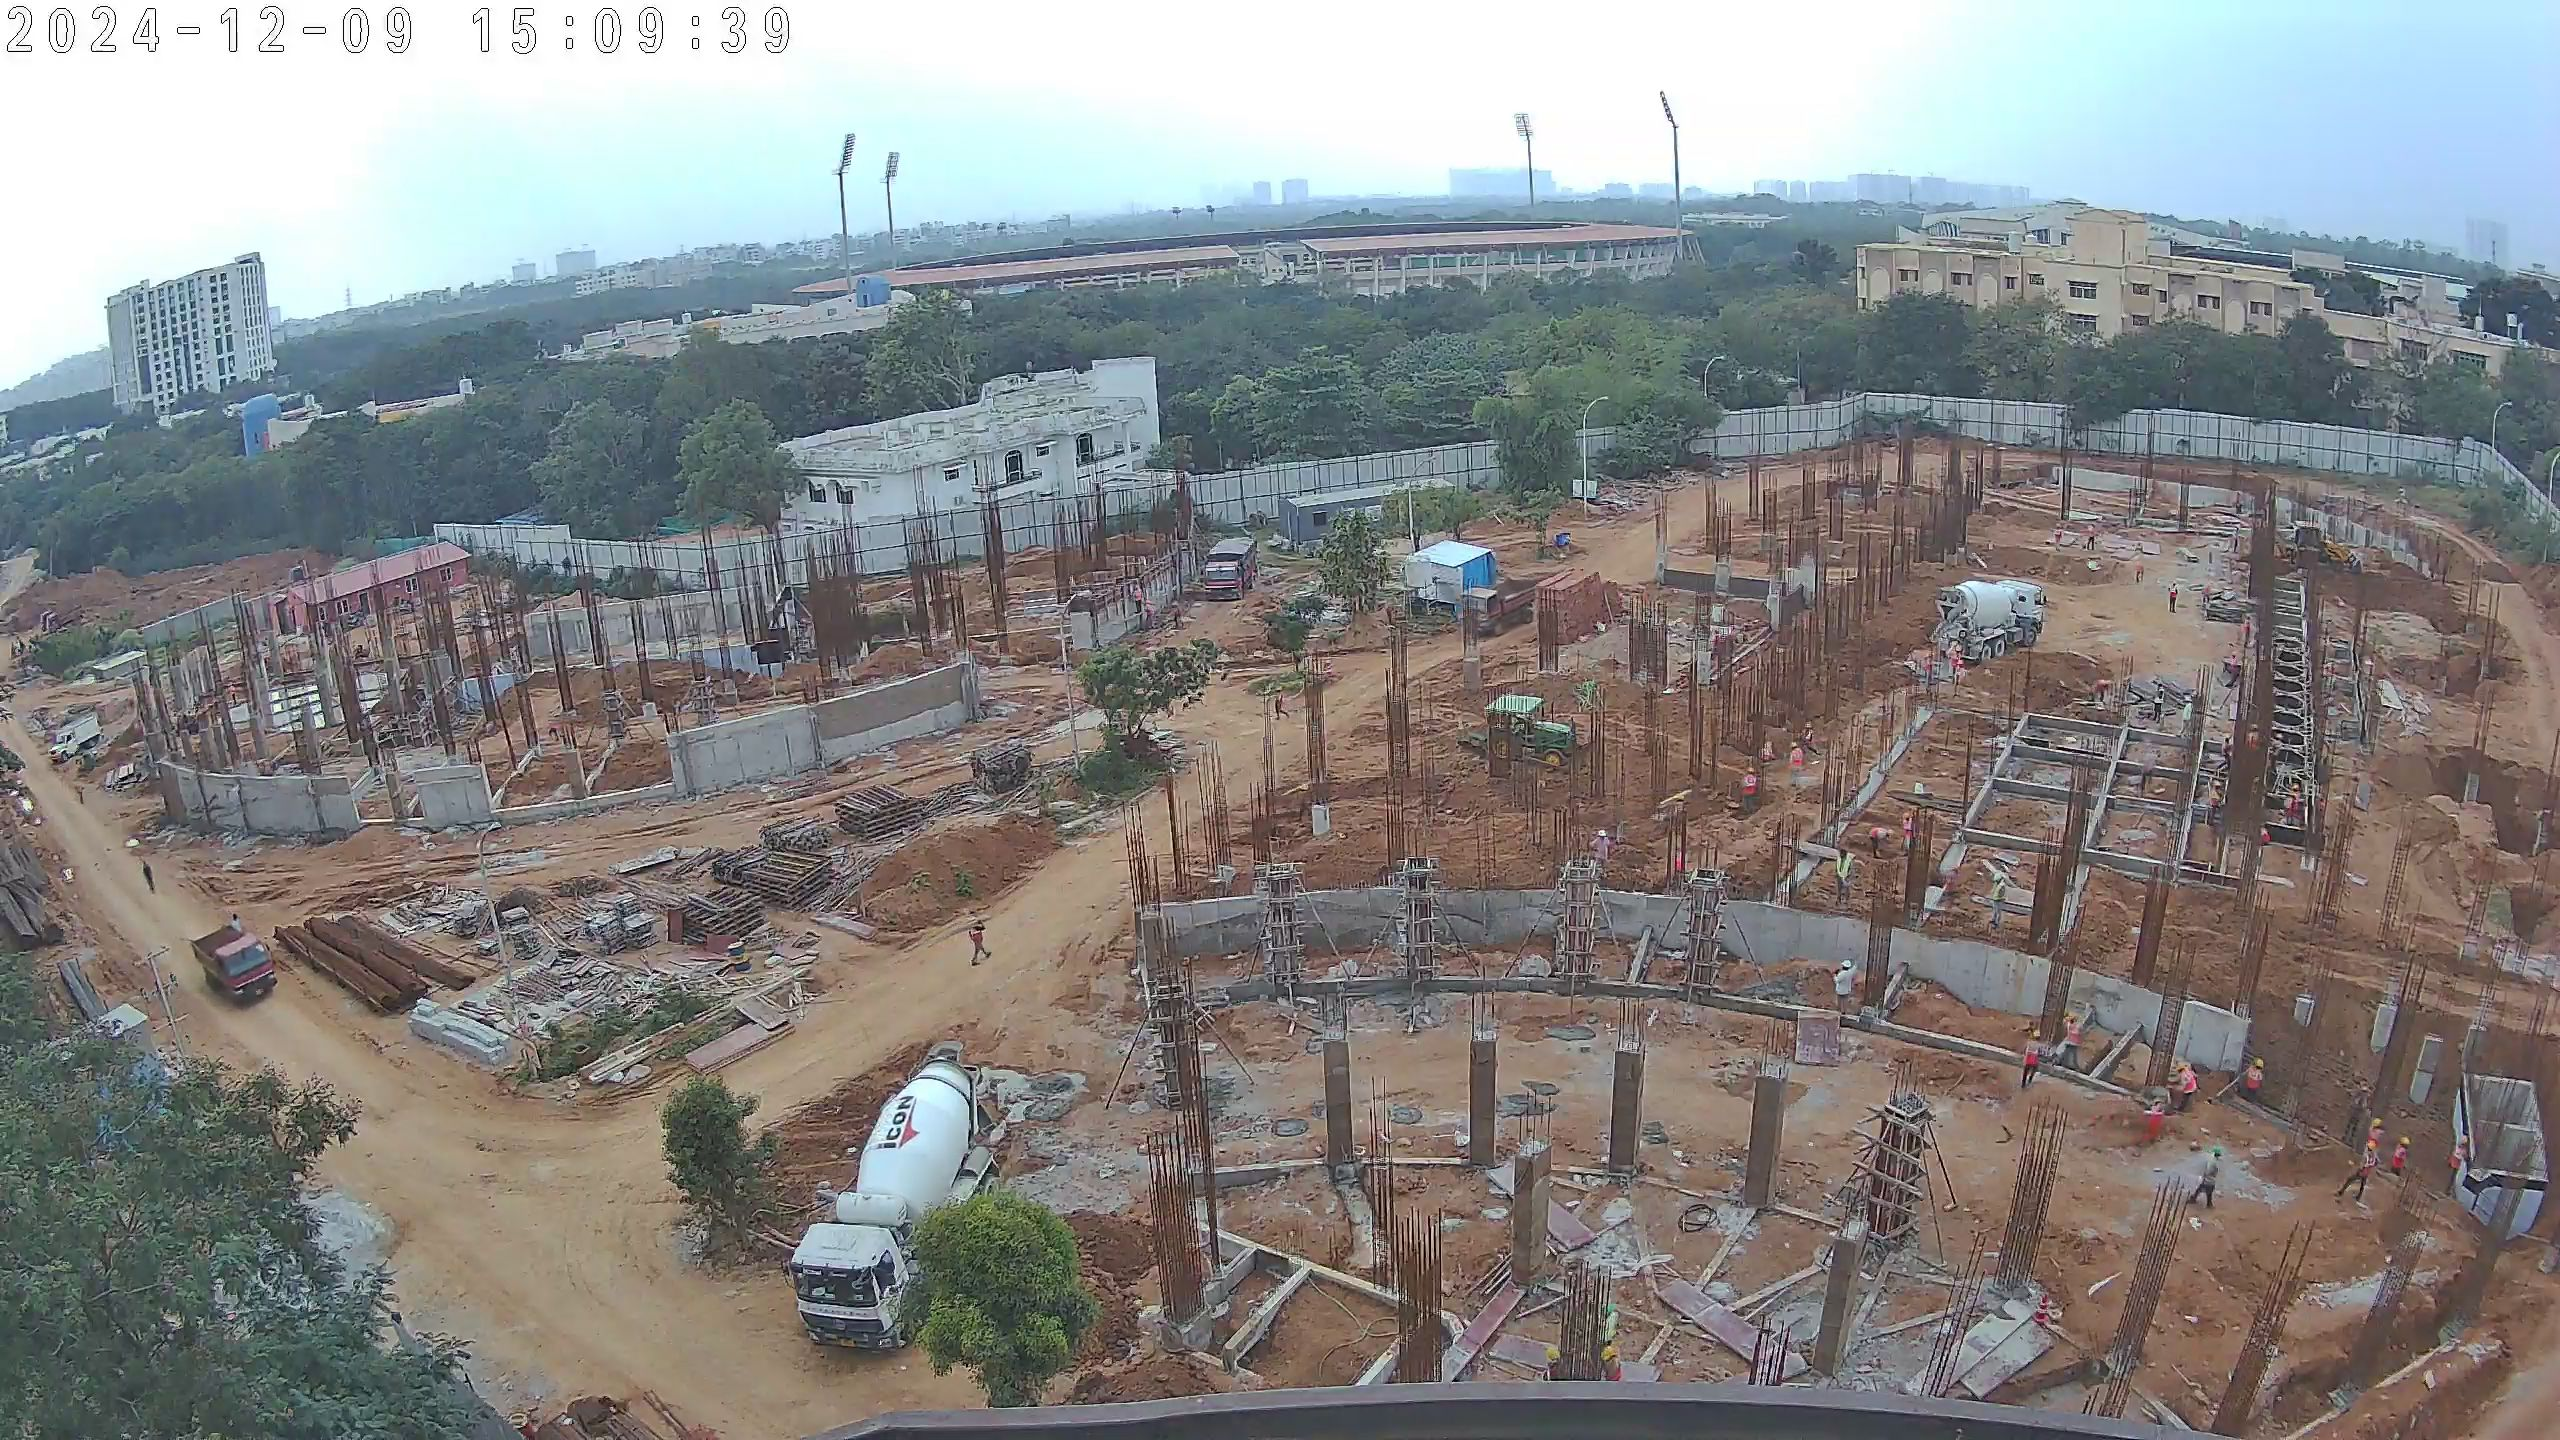bulldozer: (1453, 692, 1587, 773), (2274, 518, 2362, 581)
truck: (793, 1058, 997, 1374), (1927, 579, 2050, 666), (187, 922, 281, 1010), (1454, 569, 1543, 641), (1204, 535, 1263, 604)
worker: (2330, 1138, 2382, 1208), (2229, 1054, 2275, 1106), (2050, 1012, 2085, 1079), (1589, 1342, 1636, 1390), (2135, 1091, 2170, 1153), (962, 920, 1000, 977), (1585, 821, 1616, 884), (2195, 1147, 2222, 1214), (1833, 843, 1860, 910), (2442, 1131, 2469, 1198), (1981, 867, 2009, 931), (2385, 1131, 2418, 1185), (1535, 1334, 1567, 1389), (2166, 1056, 2195, 1114), (1729, 762, 1758, 816), (2203, 776, 2229, 831), (2018, 1025, 2039, 1091), (2364, 1114, 2389, 1167), (1781, 741, 1808, 789), (1267, 684, 1298, 725), (2282, 778, 2305, 832), (1895, 808, 1919, 859), (1865, 823, 1898, 860), (1942, 636, 1966, 682), (2088, 671, 2119, 706), (136, 857, 161, 897), (2147, 677, 2166, 728), (2176, 693, 2198, 734), (1799, 721, 1821, 759), (2164, 578, 2183, 620), (1129, 580, 1148, 618), (2084, 522, 2106, 552), (1141, 596, 1158, 634), (2238, 613, 2255, 649), (2225, 647, 2243, 680), (1758, 737, 1779, 764), (1708, 626, 1723, 659), (2131, 560, 2150, 585)
